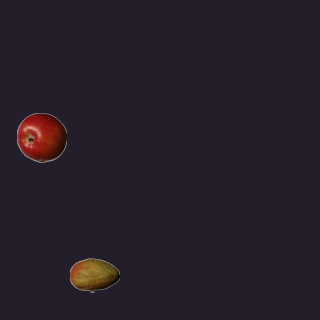Apple Braeburn: (16, 112, 66, 162)
Papaya: (69, 250, 119, 300)
